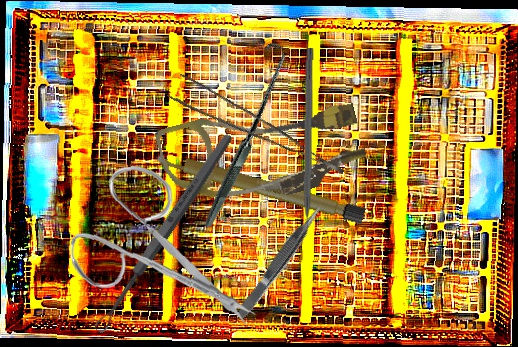Cannula: (153, 79, 372, 225)
Chopper: (292, 47, 314, 245)
Hook Surgical: (146, 39, 338, 229)
Iris Scissors: (66, 160, 257, 335)
Scalpel Handle: (153, 147, 367, 225)
Surgical Spoon: (91, 130, 236, 336)
Tissue Forceps: (166, 64, 345, 202), (232, 201, 328, 321)
